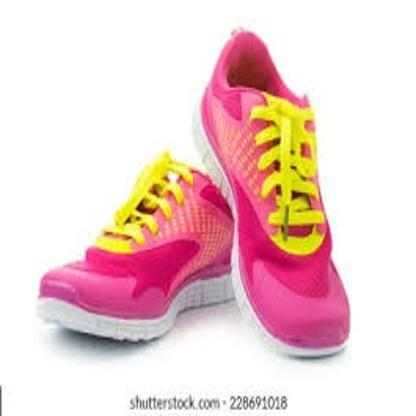not trash: (189, 30, 350, 360), (37, 150, 240, 342)
